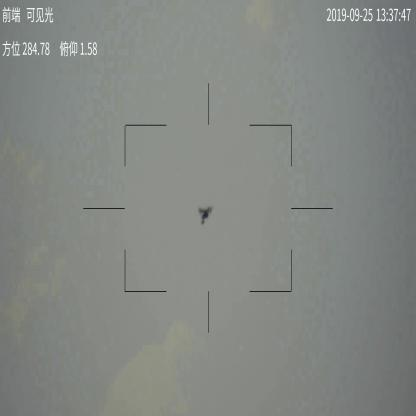uav: (194, 202, 216, 227)
